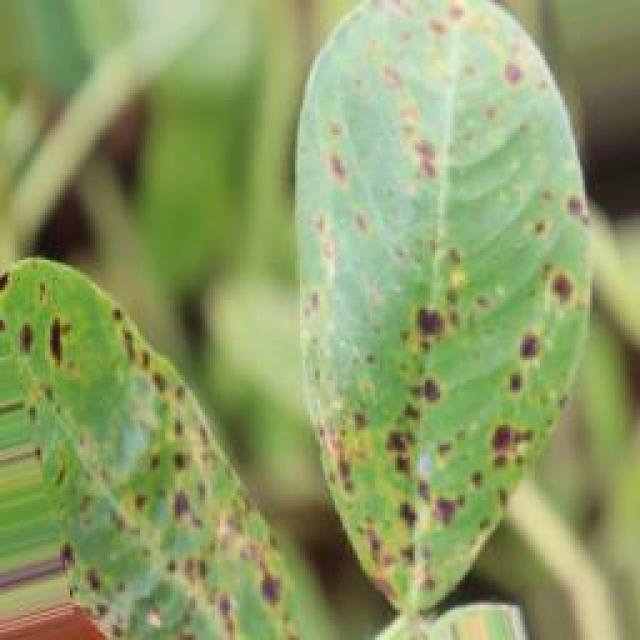Yellowish: (13, 5, 565, 601)
